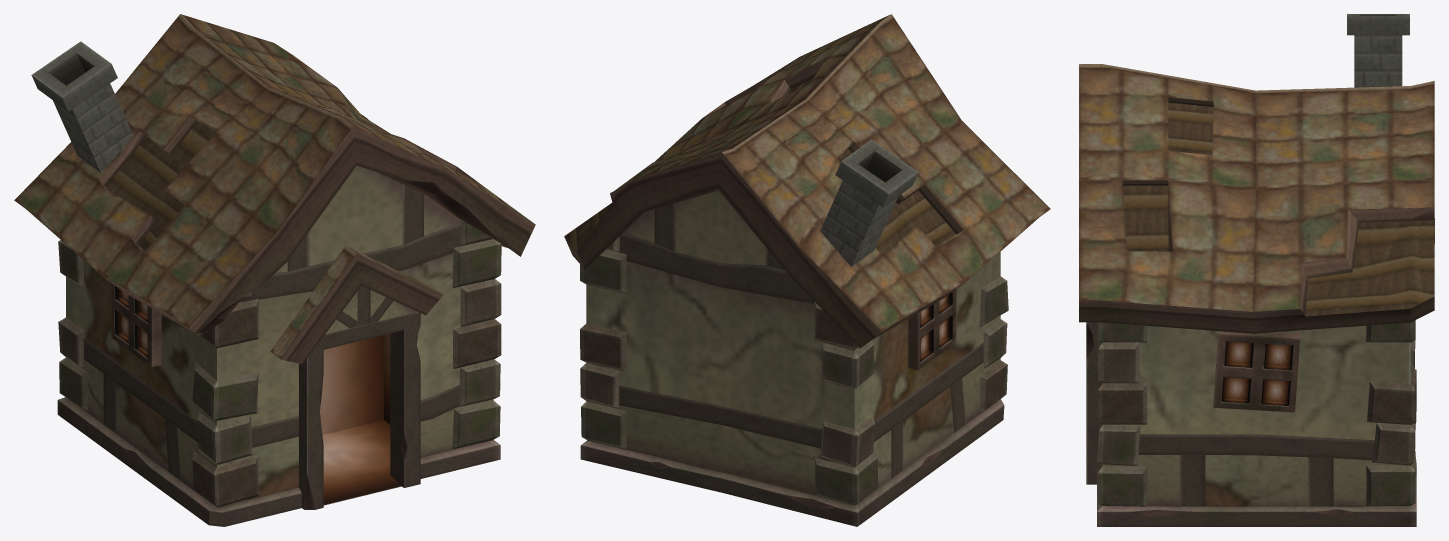
Rendered from Private Dwelling 1 - S_b.fbx.
The picture shows the model from 3 angles, left to right: view 1: azimuth 30°, elevation 25°; view 2: azimuth 150°, elevation 25°; view 3: azimuth 270°, elevation 25°; orthographic projection. The views are drawn at different scales.
Parts seen in each view (by area): view 1: house, lightobj1; view 2: house, lightobj1; view 3: house, lightobj1.
Part boxes in pixels (x1,y1,x2,y2): house: (14,14,535,526); lightobj1: (115,286,401,504); house: (564,14,1050,526); lightobj1: (920,292,952,361); house: (1079,14,1434,526); lightobj1: (1221,341,1293,405).
Size of the model in its own units: 3.46 by 3.59 by 3.
